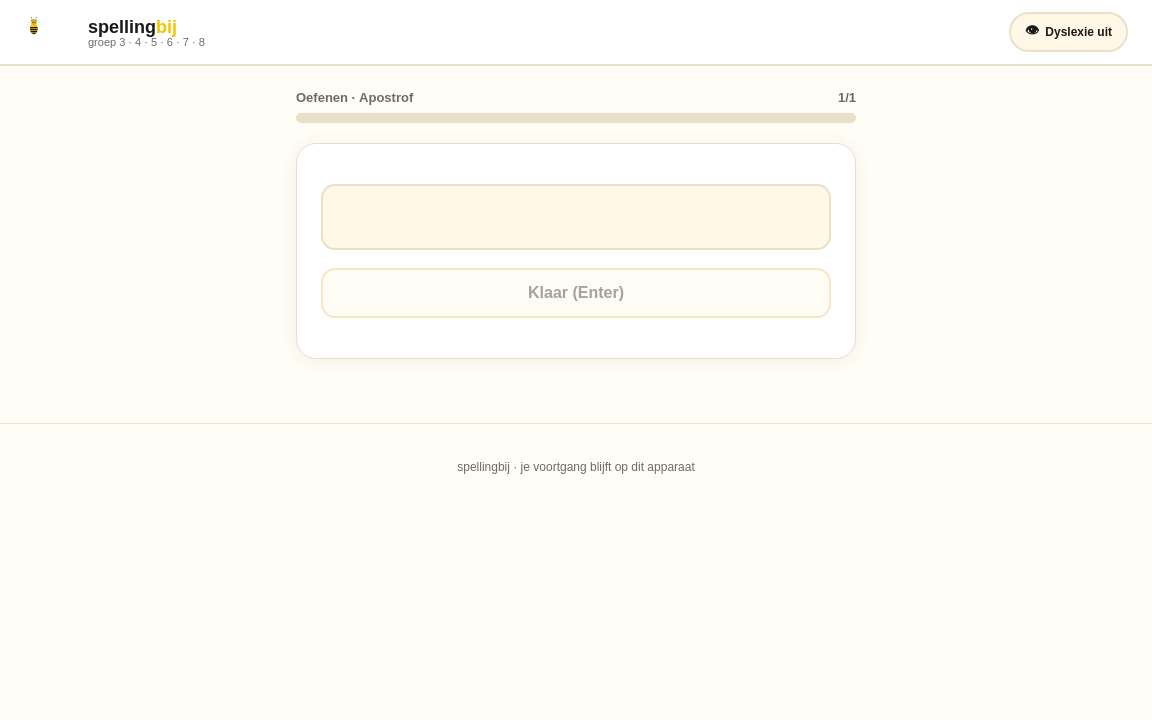
een hint bij het woord wordt getoond na een fout antwoord
In the field: (576, 217) 321,184 -> 831,250, type "autos"
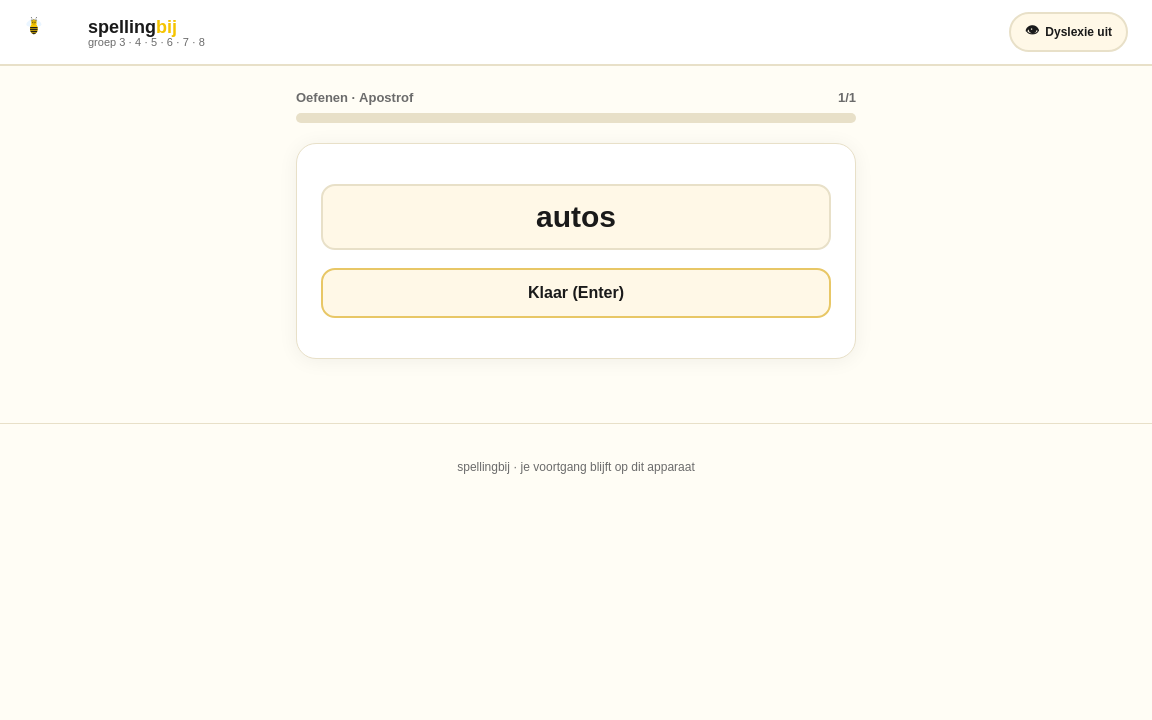
Click the button "Klaar (Enter)": (576, 293) 321,268 -> 831,318
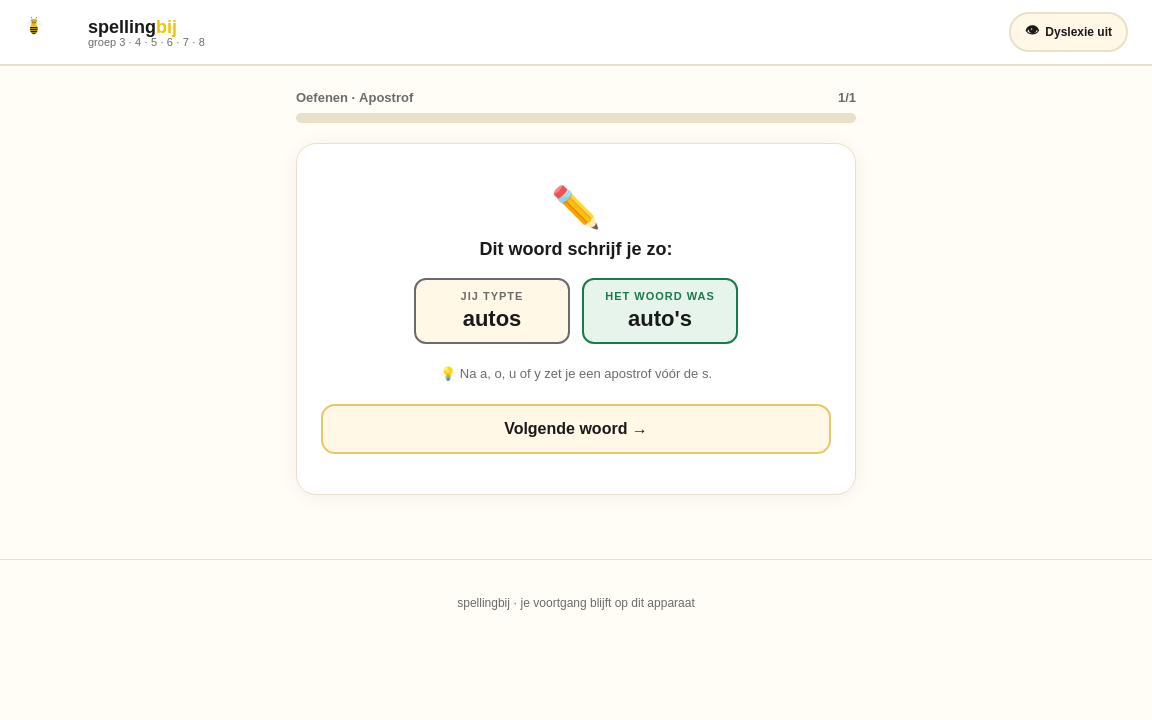
Expected: the text "💡 Na a, o, u of y zet je een apostrof vóór de s." is shown, 440,366 -> 712,381
